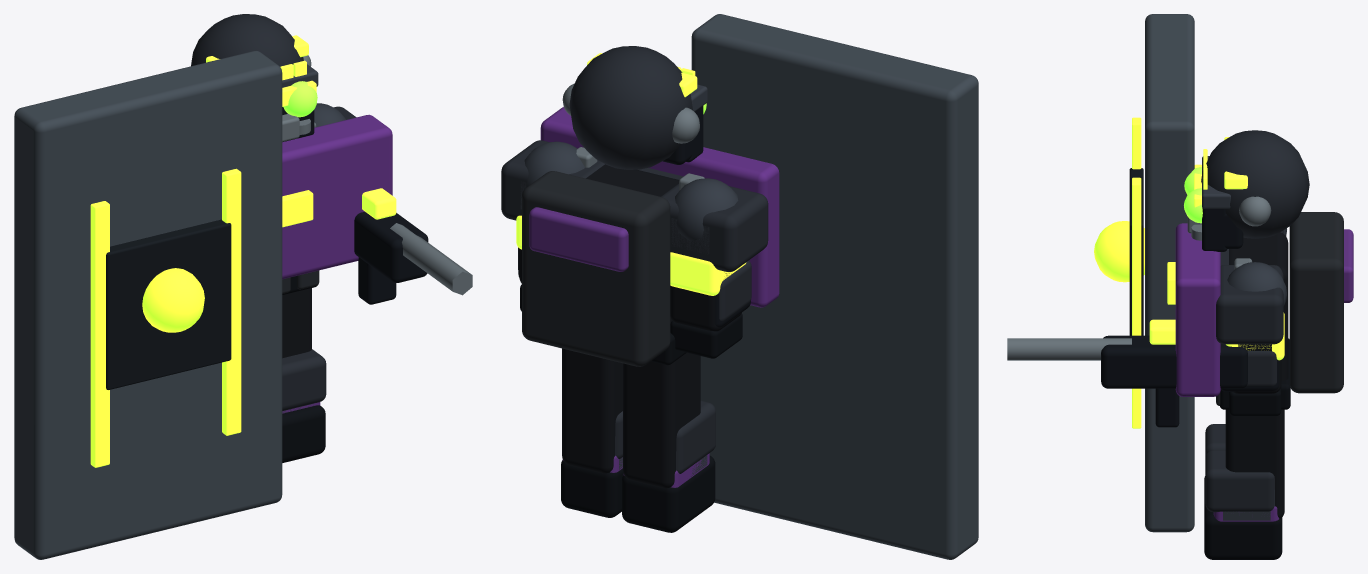
The model's file is guardian_l05.glb.
3 views of the same model, side by side, from view 1: azimuth 30°, elevation 25°; view 2: azimuth 150°, elevation 25°; view 3: azimuth 270°, elevation 25° (orthographic). The views are drawn at different scales.
Parts seen in each view (by area): view 1: barrier_body, barrier_centre, heavy_chest, barrier_power_strip (×2), rounded_helmet, heavy_carbine, barrier_core, shaped_knee_guard, heavy_barrel, boot, trouser, drum_magazine (+3 smaller); view 2: barrier_body, field_pack, trouser (×2), rounded_helmet, broad_shoulder_guard (×2), boot (×2), heavy_chest, elite_back_plate, shoulder_joint (×2), shaped_knee_guard, glove, rank_stripe (+4 smaller); view 3: barrier_body, field_pack, rounded_helmet, heavy_chest, heavy_carbine, broad_shoulder_guard, trouser, shaped_knee_guard (×2), boot, barrier_power_strip (×2), heavy_barrel, body (+16 smaller).
Boxes of the visible parts, x1,y1,x2,y2 form: barrier_body: [14, 51, 282, 559]; barrier_centre: [106, 219, 231, 389]; heavy_chest: [282, 114, 392, 279]; barrier_power_strip (×2): [90, 168, 241, 467]; rounded_helmet: [191, 14, 303, 66]; heavy_carbine: [354, 211, 428, 282]; barrier_core: [142, 268, 204, 332]; shaped_knee_guard: [282, 349, 326, 410]; heavy_barrel: [390, 223, 472, 295]; boot: [282, 405, 325, 462]; trouser: [282, 288, 311, 358]; drum_magazine: [358, 257, 396, 304]; barrier_body: [691, 14, 978, 559]; field_pack: [522, 171, 670, 366]; trouser (×2): [562, 348, 700, 488]; rounded_helmet: [569, 46, 692, 169]; broad_shoulder_guard (×2): [501, 140, 768, 271]; boot (×2): [561, 455, 715, 532]; heavy_chest: [540, 107, 779, 307]; elite_back_plate: [529, 207, 628, 271]; shoulder_joint (×2): [524, 141, 738, 241]; shaped_knee_guard: [676, 400, 715, 473]; glove: [670, 313, 742, 358]; rank_stripe: [670, 252, 746, 295]; barrier_body: [1145, 14, 1194, 532]; field_pack: [1289, 212, 1343, 393]; rounded_helmet: [1201, 130, 1309, 238]; heavy_chest: [1175, 223, 1220, 396]; heavy_carbine: [1101, 335, 1247, 388]; broad_shoulder_guard: [1216, 265, 1283, 344]; trouser: [1225, 409, 1284, 518]; shaped_knee_guard (×2): [1205, 424, 1274, 512]; boot: [1204, 502, 1282, 559]; barrier_power_strip (×2): [1132, 117, 1141, 428]; heavy_barrel: [1007, 338, 1131, 360]; body: [1229, 232, 1288, 381].
Bounding box in the file's own units: 1.73 × 1.91 × 1.46.
